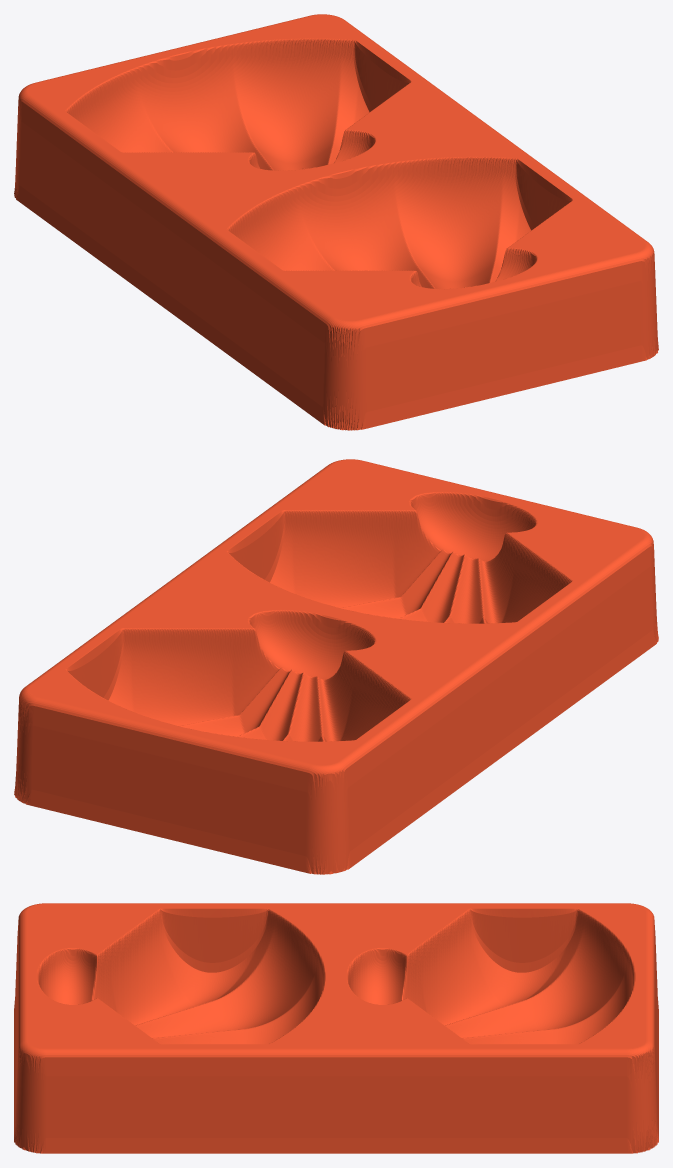
Rendered from mold.glb.
3 renders of one model, top to bottom at view 1: azimuth 30°, elevation 25°; view 2: azimuth 150°, elevation 25°; view 3: azimuth 270°, elevation 25°, orthographic. The views are drawn at different scales.
Visible parts, largest first — view 1: geometry_0; view 2: geometry_0; view 3: geometry_0.
Part boxes in pixels (x1,y1,x2,y2): geometry_0: (14,14,658,430); geometry_0: (14,459,658,874); geometry_0: (14,903,658,1153).
Size of the model in its own units: 0.1046 by 0.0312 by 0.1832.
